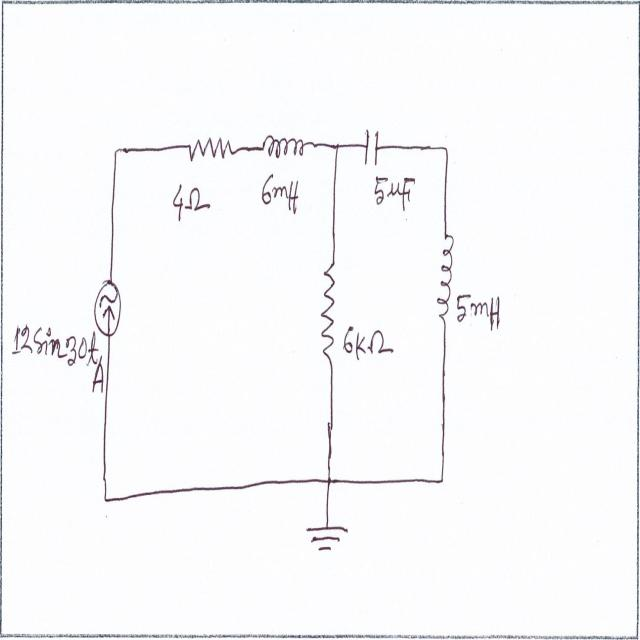capacitor: (362, 120, 381, 171)
current_source: (92, 280, 122, 338)
ground: (302, 521, 352, 558)
inductor: (262, 125, 309, 172), (436, 227, 456, 326)
resistor: (188, 118, 233, 176), (319, 256, 338, 362)
